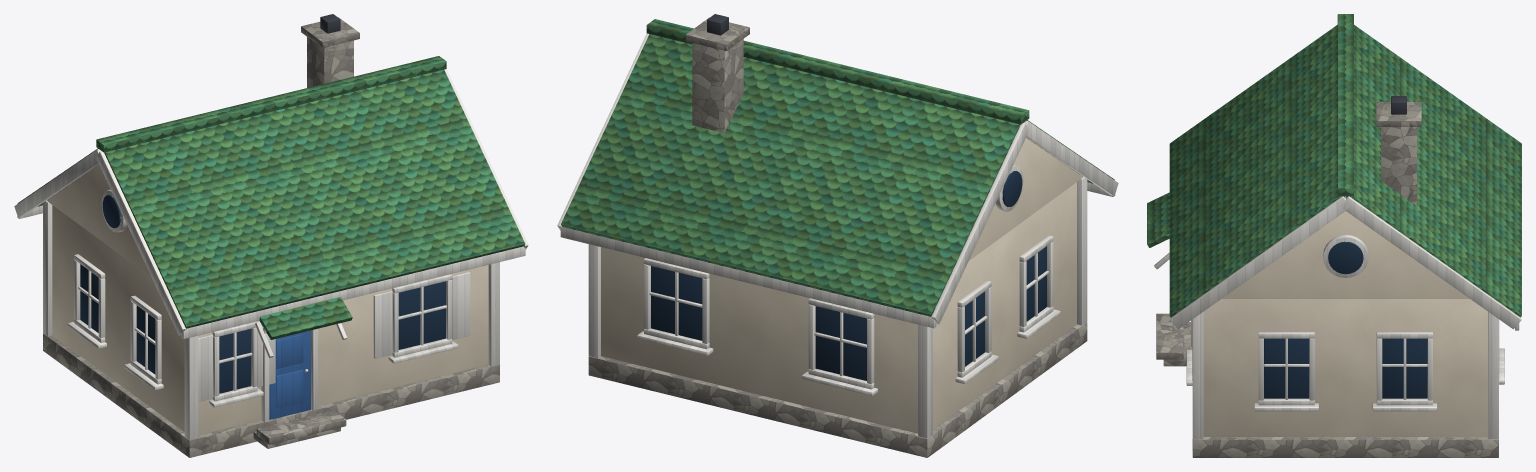
The model's file is house_b.glb.
The picture shows the model from 3 angles, left to right: view 1: azimuth 30°, elevation 25°; view 2: azimuth 150°, elevation 25°; view 3: azimuth 270°, elevation 25°; orthographic projection. The views are drawn at different scales.
Parts seen in each view (by area): view 1: house_b; view 2: house_b; view 3: house_b.
Boxes of the visible parts, x1,y1,x2,y2 form: house_b: (14, 14, 528, 457); house_b: (557, 14, 1118, 457); house_b: (1147, 14, 1521, 457).
Bounding box in the file's own units: 9.18 × 7.84 × 8.25.
8 materials, 8 textured.
